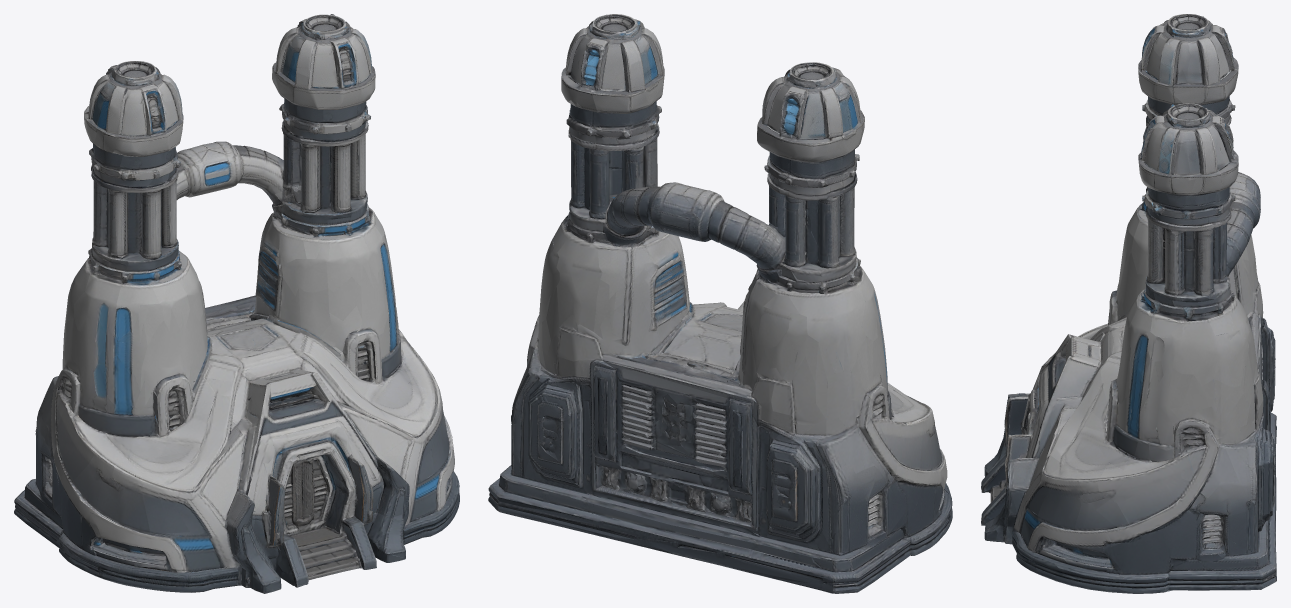
File: power-plant.glb
3 views of the same model, side by side, from view 1: azimuth 30°, elevation 25°; view 2: azimuth 150°, elevation 25°; view 3: azimuth 270°, elevation 25° (orthographic). The views are drawn at different scales.
Parts seen in each view (by area): view 1: mesh_node; view 2: mesh_node; view 3: mesh_node.
Boxes of the visible parts, x1=… form: mesh_node: x1=14, y1=14, x2=459, y2=593; mesh_node: x1=488, y1=14, x2=952, y2=593; mesh_node: x1=981, y1=14, x2=1276, y2=593.
Bounding box in the file's own units: 1.63 × 1.9 × 1.16.
Materials: 1 (1 with a texture image).
